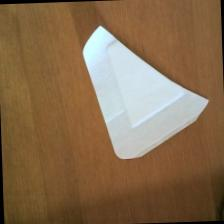Cut: (80, 19, 218, 166)
